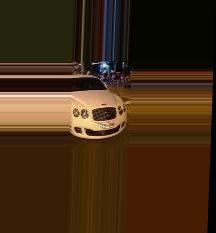License_Plate: (98, 122, 114, 128)
